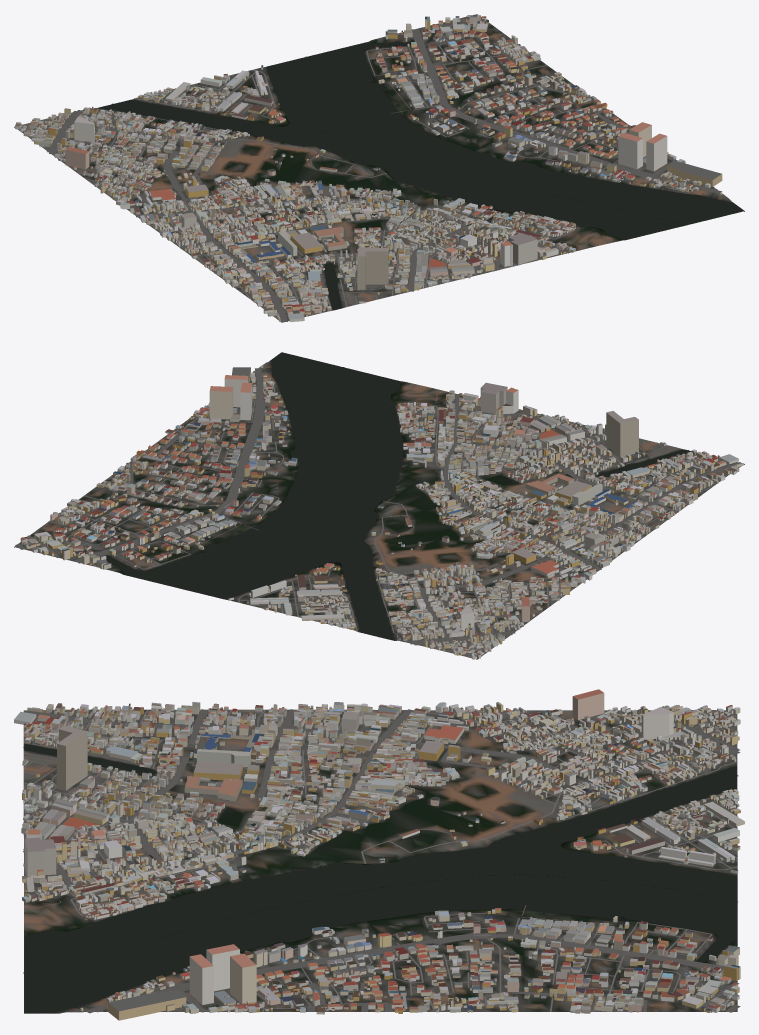
3 views of the same model, one above another, from view 1: azimuth 30°, elevation 25°; view 2: azimuth 150°, elevation 25°; view 3: azimuth 270°, elevation 25° (orthographic). The views are drawn at different scales.
Parts seen in each view (by area): view 1: buildings, ground, water, roads; view 2: buildings, ground, water, roads; view 3: buildings, ground, water, roads.
Part boxes in pixels (box(x1,y1,x2,y2)): buildings: box(15, 14, 722, 322); ground: box(14, 14, 744, 322); water: box(98, 42, 743, 309); roads: box(20, 15, 721, 322); buildings: box(20, 365, 743, 659); ground: box(14, 354, 744, 659); water: box(105, 352, 691, 640); roads: box(15, 368, 741, 656); buildings: box(14, 689, 744, 1020); ground: box(23, 709, 737, 1013); water: box(23, 743, 738, 1012); roads: box(23, 709, 740, 1013).
Size of the model in its own units: 1451 by 103 by 1435.
